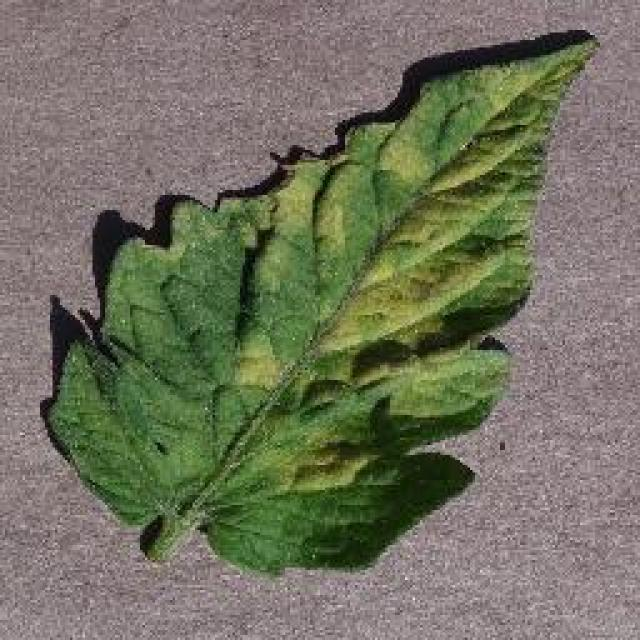Tomato mold leaf: (43, 31, 596, 584)
